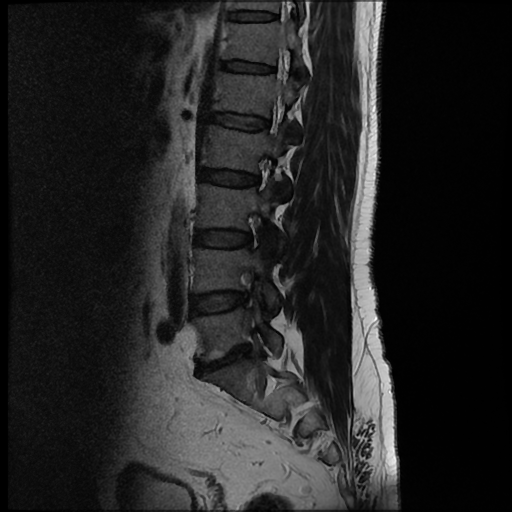RFS0: (241, 150, 281, 198)
RFS2: (235, 205, 268, 257)
